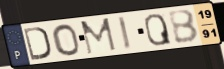B: (166, 8, 201, 45)
D: (22, 26, 52, 62)
I: (116, 15, 134, 52)
M: (78, 16, 118, 56)
O: (51, 23, 82, 57)
Q: (143, 13, 174, 47)
